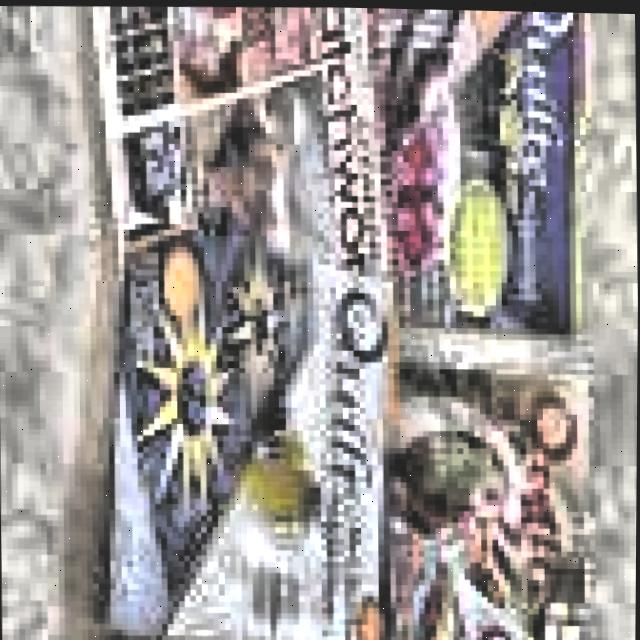paper: (88, 2, 611, 640)
